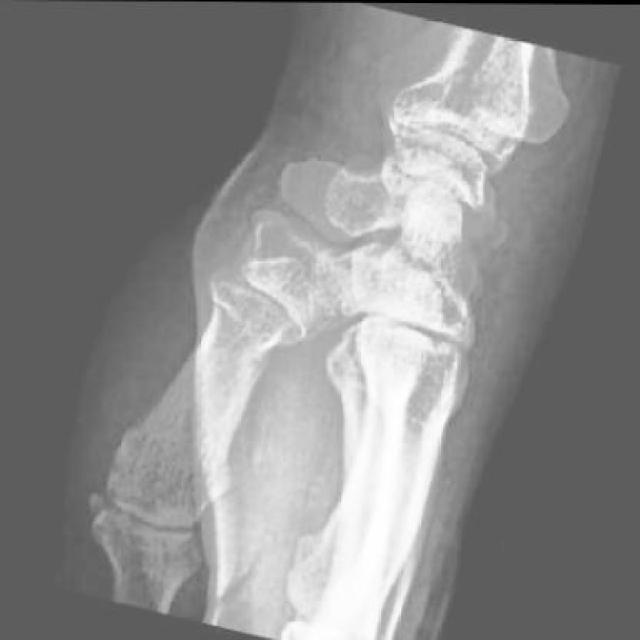Fracture: (463, 197, 523, 261)
